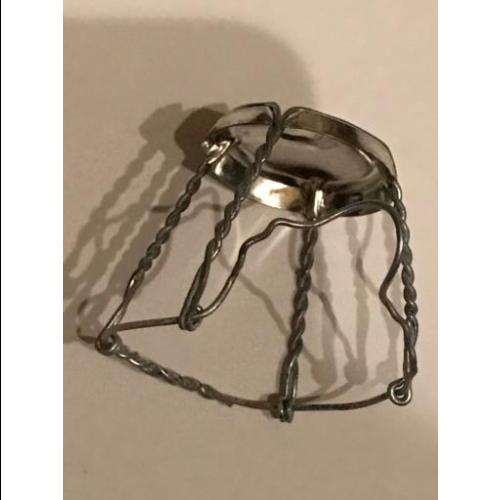metal: (206, 102, 399, 221)
